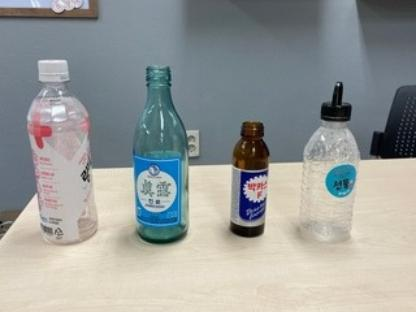Glass Bottle: (134, 57, 190, 245)
Others: (229, 113, 269, 239)
Plastic Bottle: (28, 59, 100, 247), (298, 82, 362, 246)
